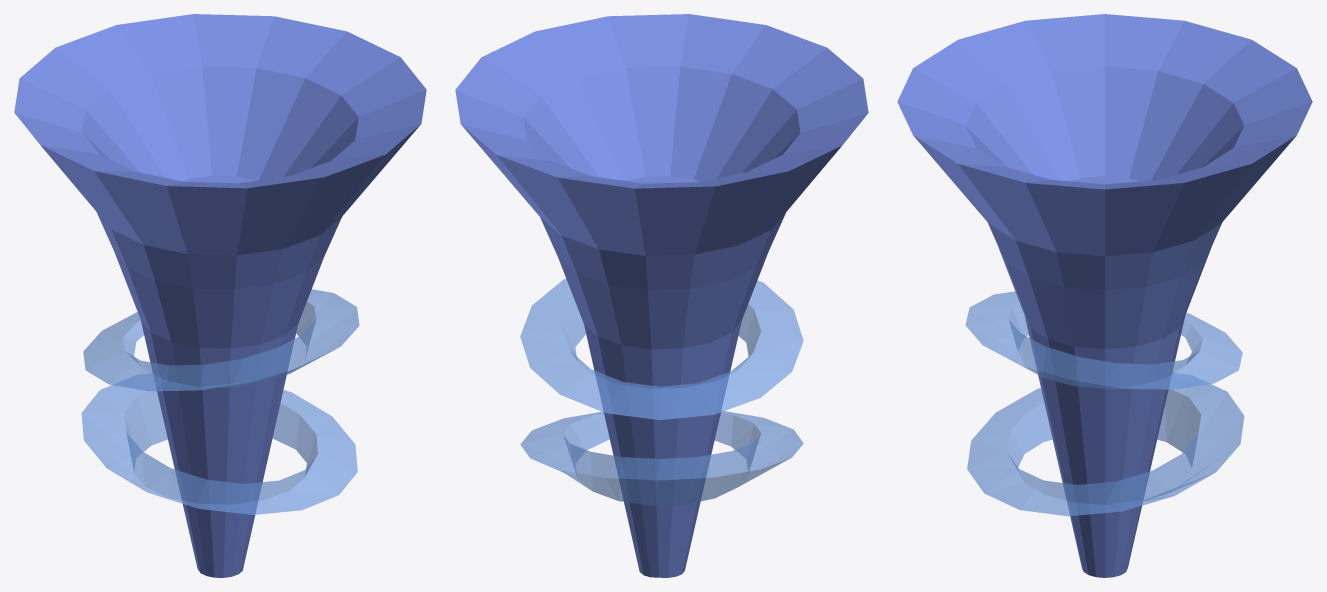
File: typhoon.fbx
3 renders of one model, left to right at view 1: azimuth 30°, elevation 25°; view 2: azimuth 150°, elevation 25°; view 3: azimuth 270°, elevation 25°, orthographic.
Visible parts, largest first — view 1: Typhoon, typhoon_ring1, typhoon_ring2; view 2: Typhoon, typhoon_ring2, typhoon_ring1; view 3: Typhoon, typhoon_ring1, typhoon_ring2.
Part boxes in pixels (bbox=[...]): Typhoon: bbox=[14, 14, 426, 577]; typhoon_ring1: bbox=[81, 374, 357, 514]; typhoon_ring2: bbox=[83, 289, 359, 391]; Typhoon: bbox=[455, 14, 868, 577]; typhoon_ring2: bbox=[520, 279, 803, 420]; typhoon_ring1: bbox=[520, 411, 803, 505]; Typhoon: bbox=[897, 14, 1312, 577]; typhoon_ring1: bbox=[967, 373, 1244, 516]; typhoon_ring2: bbox=[965, 291, 1242, 389].
Size of the model in its own units: 3044 by 3771 by 3044.
